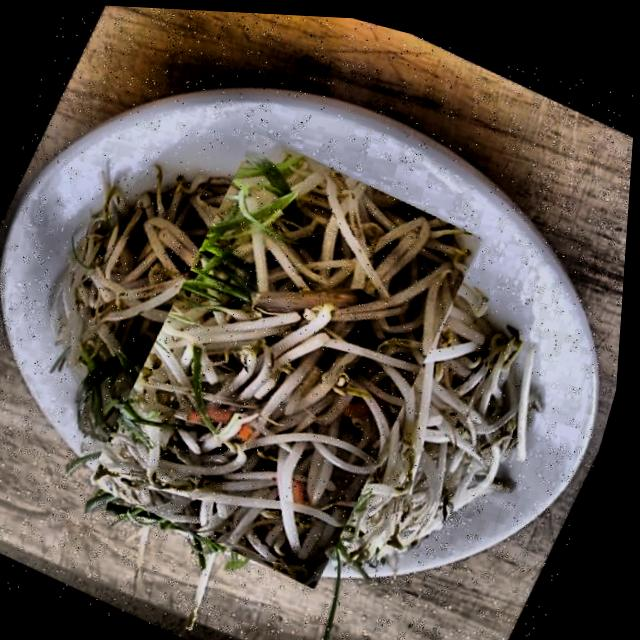Food: (58, 128, 521, 584)
